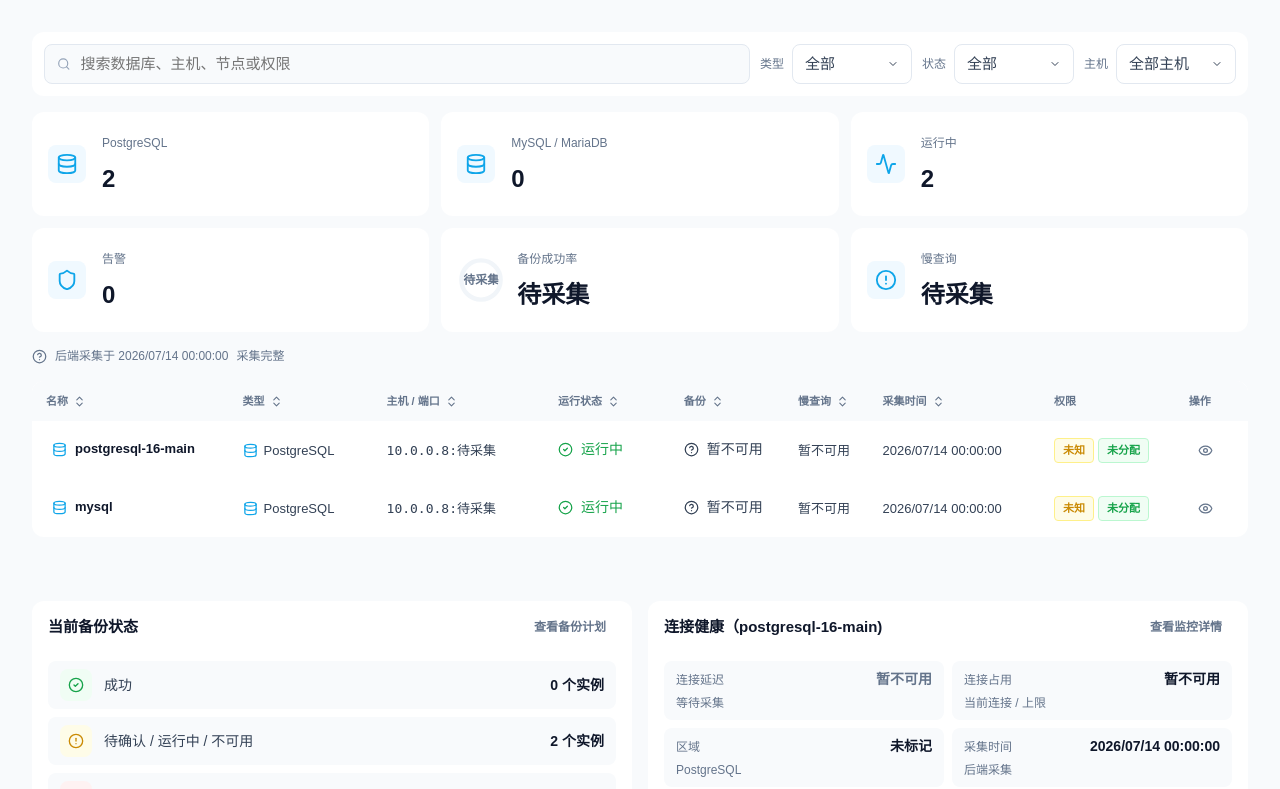
Scenario: database instances live page › polls every ten seconds, keeps filters and updates an open stable detail
Type "postgresql" into the field with placeholder "搜索数据库、主机、节点或权限".
click(408, 64); type("postgresql")  # box [78, 52, 737, 76]
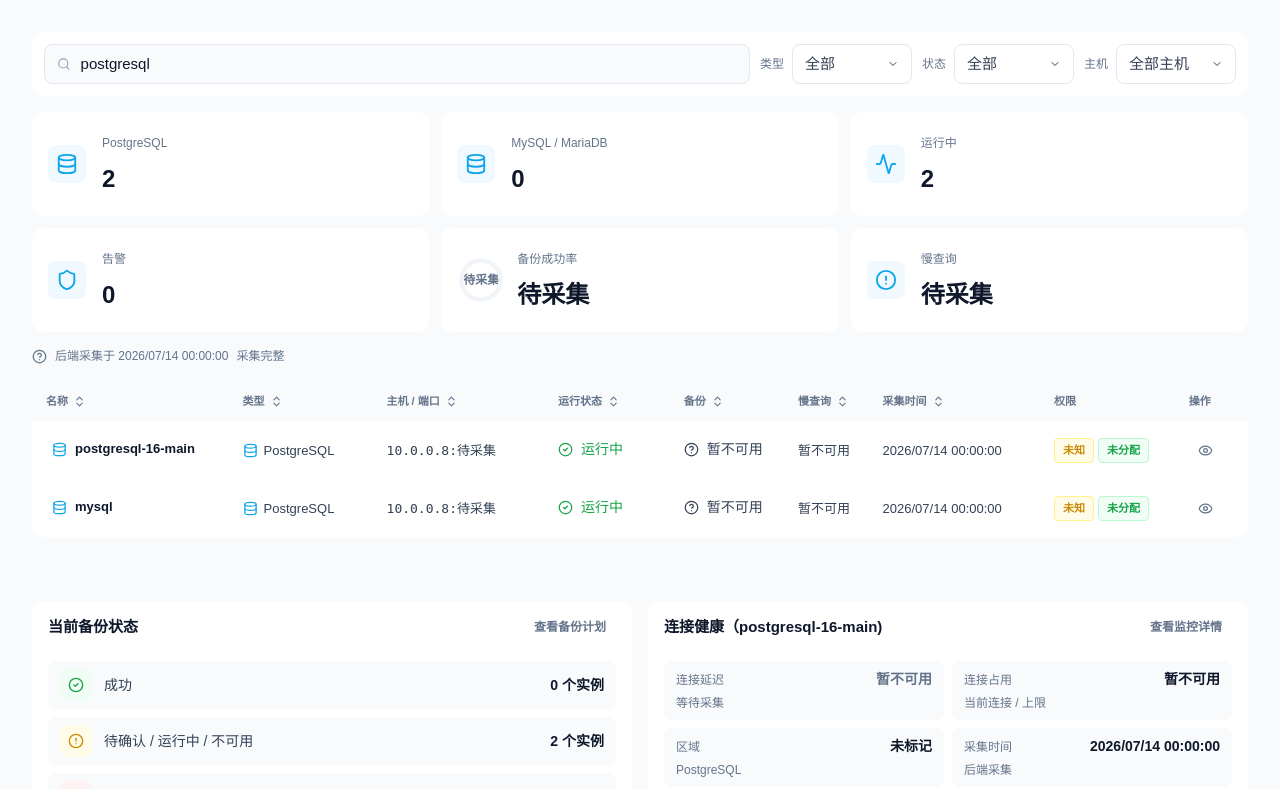
Click the button named "查看 postgresql-16-main 详情".
click(1206, 450)  # box [1189, 433, 1223, 467]
Wait 20000 ms
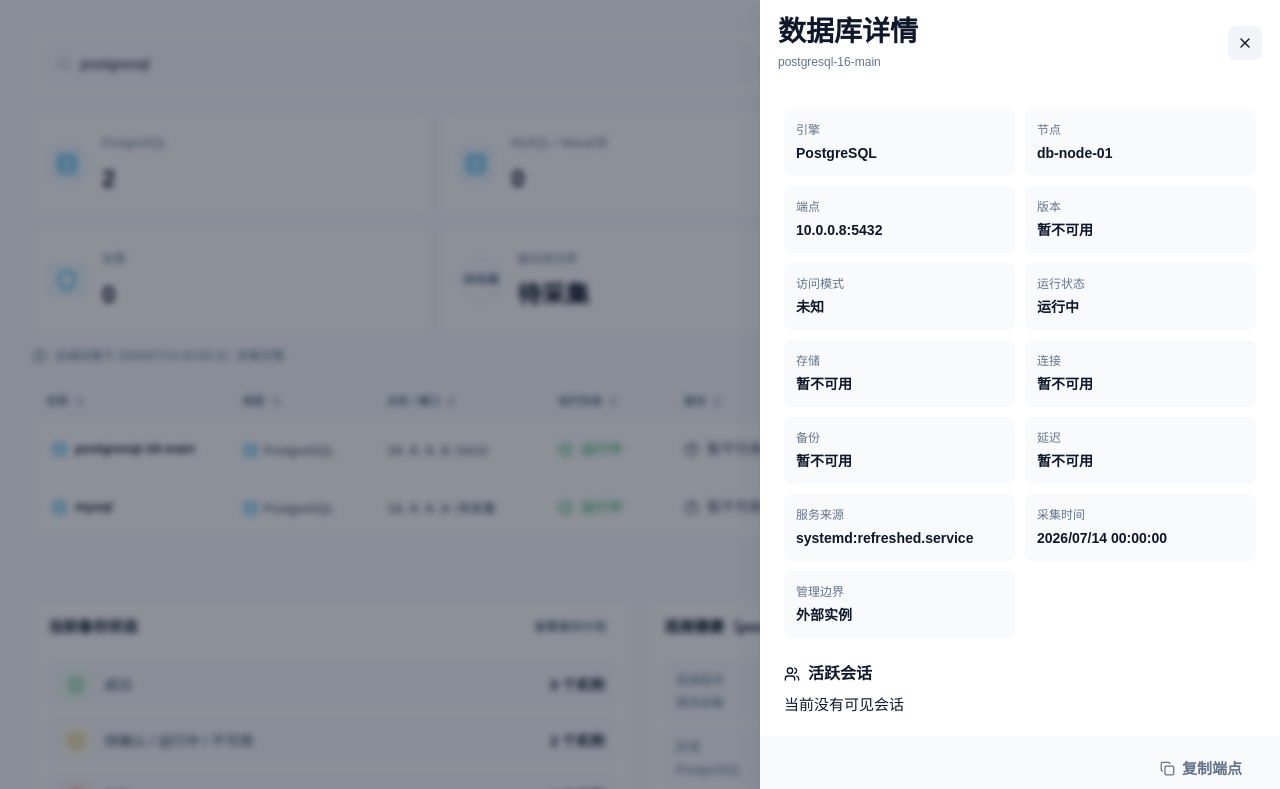
Expected: the text "10.0.0.8:5432" is shown, [796, 222, 882, 238]
Expected: the text "systemd:refreshed.service" is shown, [796, 528, 1003, 549]
